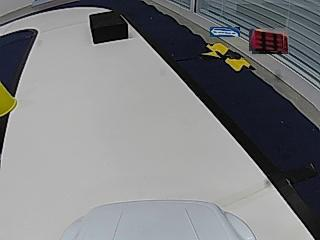block: (89, 11, 128, 43)
cone: (0, 78, 18, 116)
